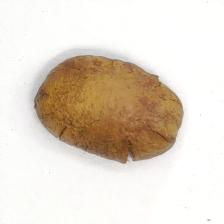NG: (150, 72, 185, 150), (116, 136, 139, 164)
